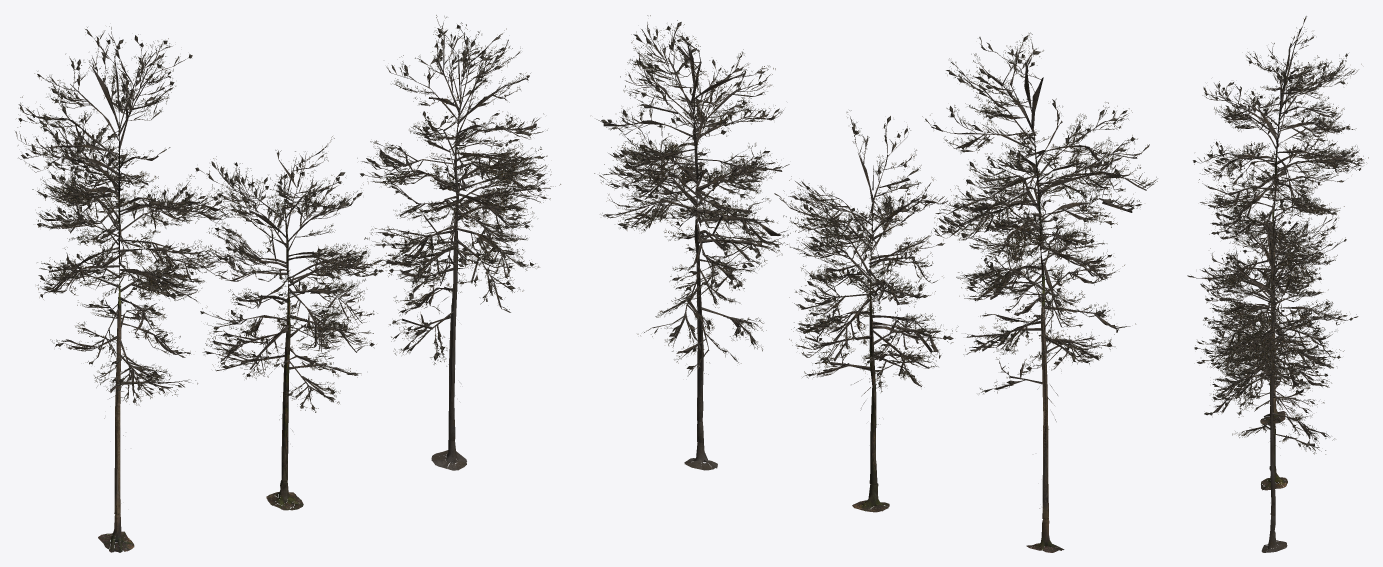
File: pine_tree_01.gltf
3 views of the same model, side by side, from view 1: azimuth 30°, elevation 25°; view 2: azimuth 150°, elevation 25°; view 3: azimuth 270°, elevation 25° (orthographic). The views are drawn at different scales.
Parts seen in each view (by area): view 1: pine_tree_01_a_LOD0, pine_tree_01_c_LOD0, pine_tree_01_b_LOD0; view 2: pine_tree_01_a_LOD0, pine_tree_01_c_LOD0, pine_tree_01_b_LOD0; view 3: pine_tree_01_a_LOD0, pine_tree_01_c_LOD0, pine_tree_01_b_LOD0.
Boxes of the visible parts, x1,y1,x2,y2 form: pine_tree_01_a_LOD0: (15, 26, 235, 552); pine_tree_01_c_LOD0: (357, 15, 560, 470); pine_tree_01_b_LOD0: (192, 136, 386, 510); pine_tree_01_a_LOD0: (922, 32, 1157, 552); pine_tree_01_c_LOD0: (594, 15, 790, 470); pine_tree_01_b_LOD0: (774, 110, 958, 512); pine_tree_01_a_LOD0: (1193, 16, 1368, 423); pine_tree_01_c_LOD0: (1194, 206, 1358, 552); pine_tree_01_b_LOD0: (1187, 197, 1346, 490).
Bounding box in the file's own units: 21.7 × 20.3 × 8.3.
Materials: 6 (6 with a texture image).
